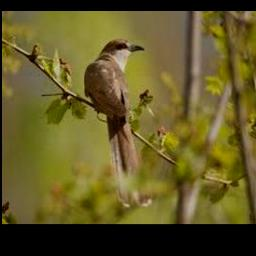Cuckoo: (83, 38, 151, 207)
